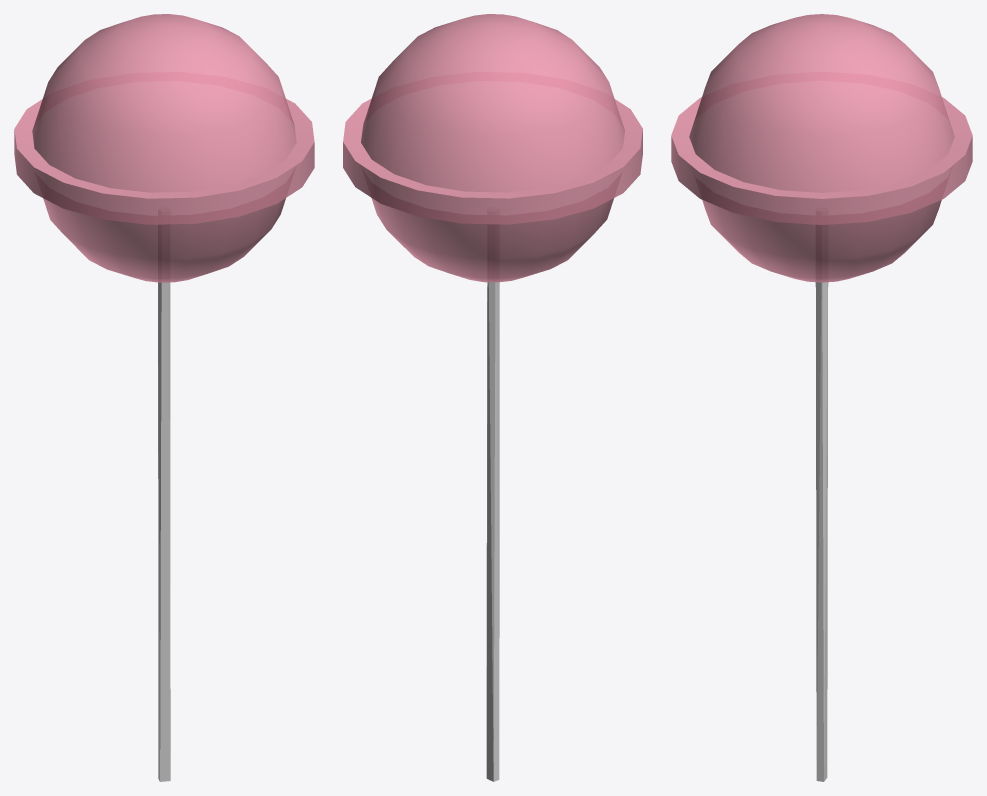
The model's file is lollipop-plant-pink.glb.
3 renders of one model, left to right at view 1: azimuth 30°, elevation 25°; view 2: azimuth 150°, elevation 25°; view 3: azimuth 270°, elevation 25°, orthographic.
Parts seen in each view (by area): view 1: lollipop-plant-pink; view 2: lollipop-plant-pink; view 3: lollipop-plant-pink.
Boxes of the visible parts, bbox=[...] form: lollipop-plant-pink: bbox=[14, 14, 314, 781]; lollipop-plant-pink: bbox=[343, 14, 642, 781]; lollipop-plant-pink: bbox=[671, 14, 972, 781].
Size of what is drawn, in the model's own units: 0.5415 by 1.49 by 0.5415.
